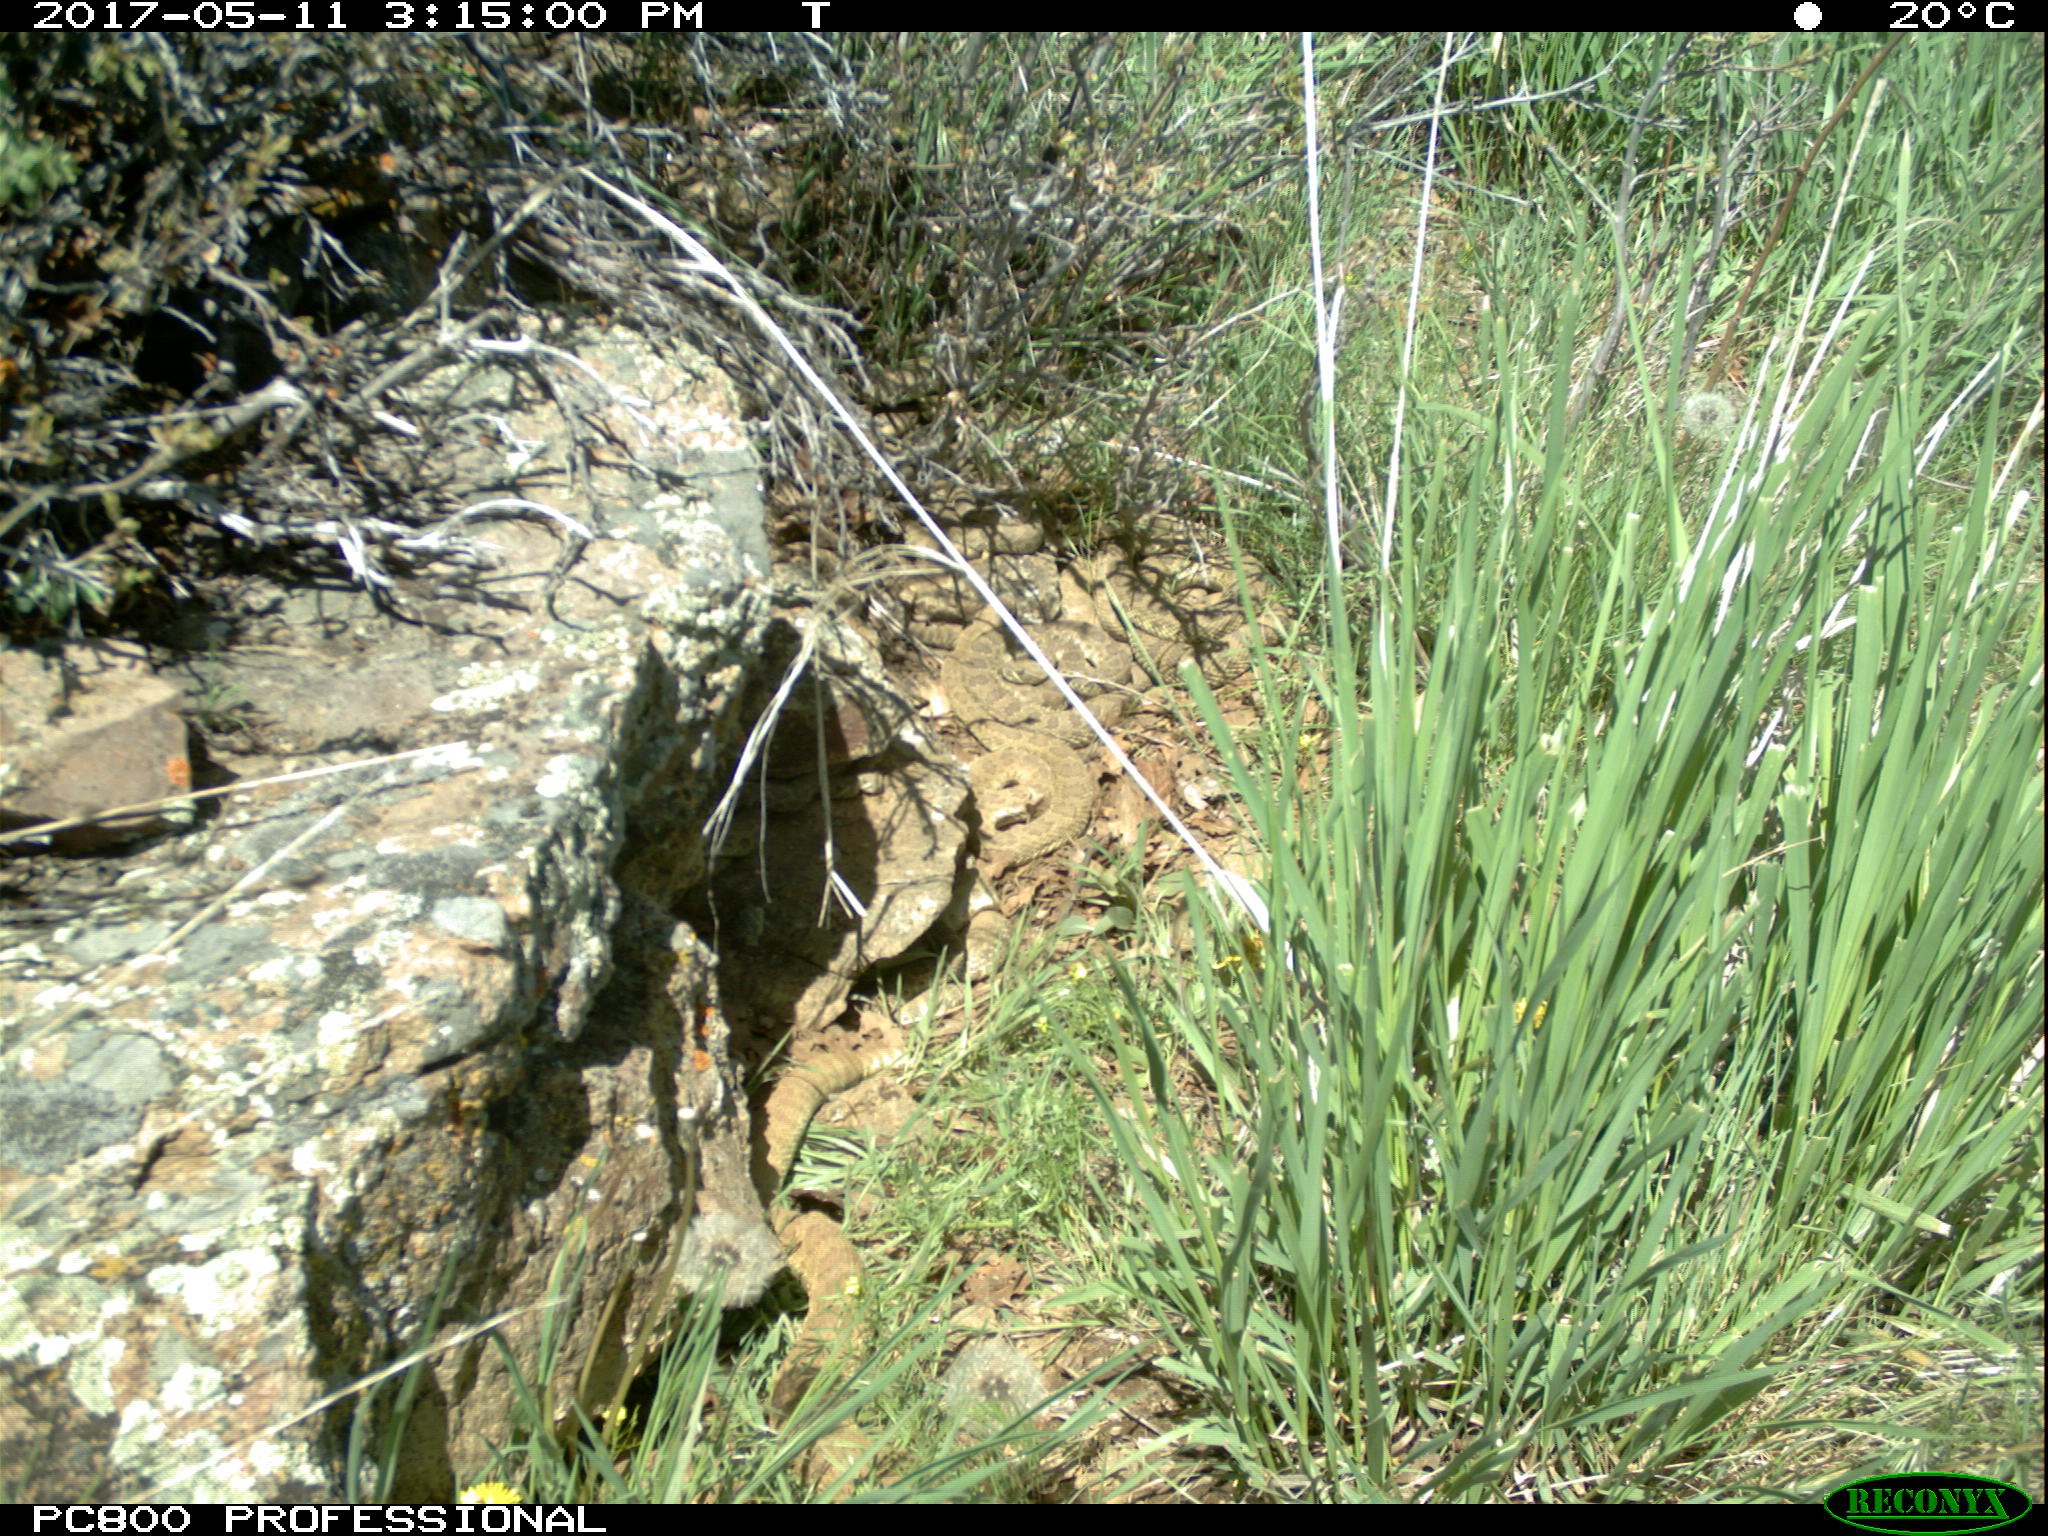snake: (747, 1039, 877, 1502), (1080, 515, 1288, 676), (942, 594, 1132, 745), (950, 731, 1100, 849), (939, 899, 1064, 1008), (900, 494, 1051, 563)
